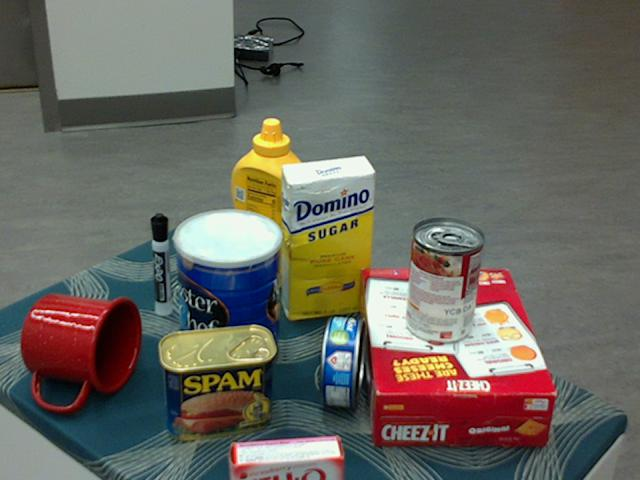cracker_box: (356, 271, 556, 442)
gelatin_box: (226, 435, 341, 479)
large_marker: (150, 212, 169, 315)
master_chef_can: (174, 209, 282, 383)
mug: (20, 293, 141, 410)
mustard_bottle: (230, 118, 310, 288)
potted_meat_can: (158, 325, 276, 439)
sugar_box: (280, 157, 375, 321)
tomato_soup_can: (403, 219, 483, 345)
tuna_fish_can: (320, 316, 365, 408)
